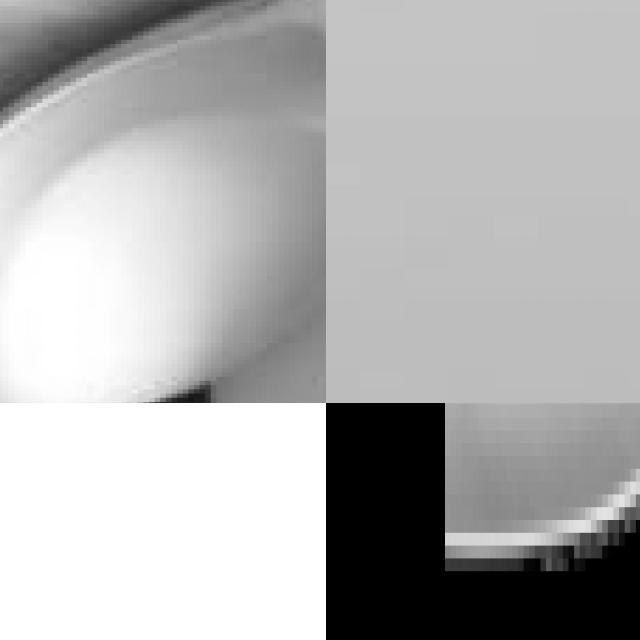spoons: (0, 0, 326, 403), (445, 403, 640, 623)
